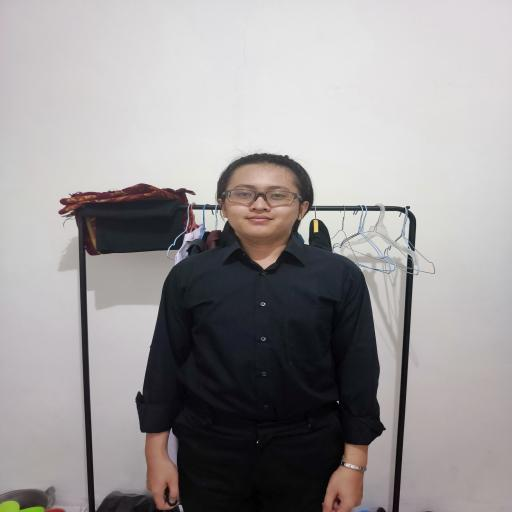celana_benar: (164, 410, 354, 512)
kemeja_salah: (130, 244, 394, 426)
